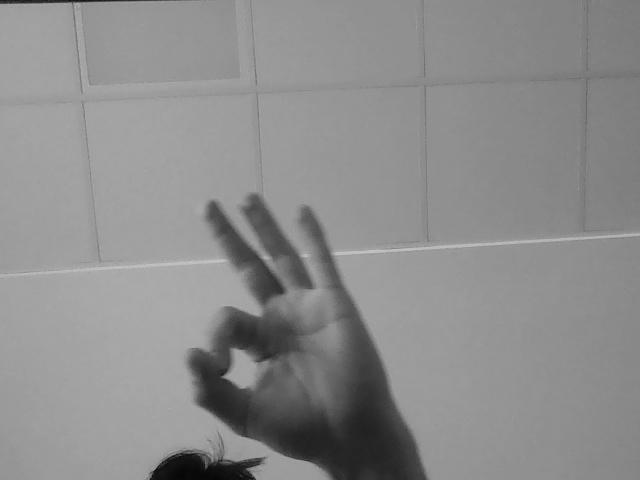OK: (147, 176, 409, 430)
